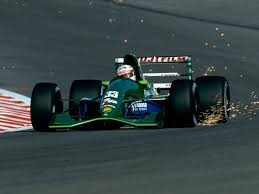FormulaOneCar: (28, 49, 235, 132)
